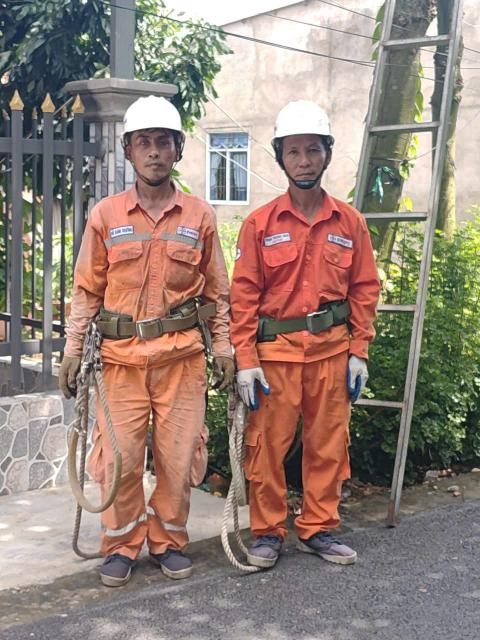gloves: (230, 358, 275, 412), (43, 345, 84, 396), (340, 348, 373, 408), (208, 351, 232, 391)
harness: (83, 296, 220, 338), (243, 294, 359, 340)
helmet: (106, 93, 198, 153), (247, 98, 346, 148)
shoes: (293, 516, 369, 580), (137, 529, 201, 583), (80, 544, 143, 589), (244, 522, 291, 573)
